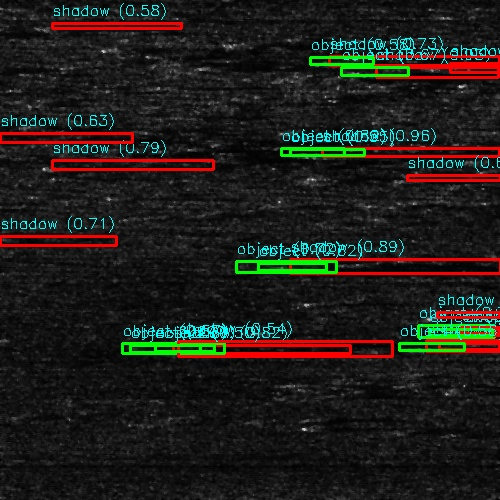rock: (178, 252, 427, 279), (110, 344, 203, 355), (409, 323, 500, 334), (23, 159, 116, 168), (314, 53, 367, 66), (309, 171, 362, 182), (336, 68, 389, 77), (401, 343, 464, 348), (298, 149, 329, 154)
shadow: (303, 252, 500, 279), (70, 159, 308, 168), (341, 53, 500, 66), (157, 344, 329, 355), (336, 171, 500, 182), (363, 68, 500, 77), (0, 61, 48, 74), (0, 237, 82, 244), (433, 343, 500, 348), (314, 149, 377, 154), (0, 87, 53, 92), (477, 323, 500, 334)
